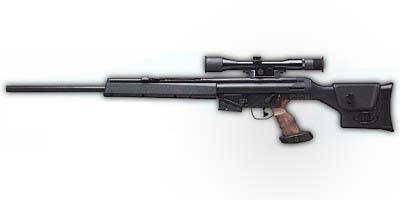rifle: (8, 28, 394, 171)
